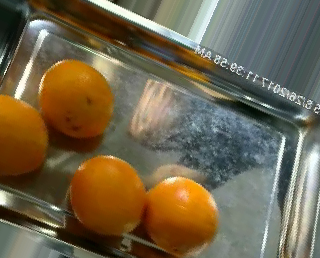Orange: (38, 58, 115, 139), (70, 154, 145, 235), (145, 175, 219, 254)
